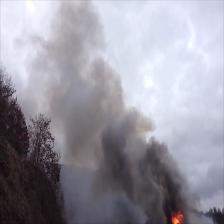fire: (169, 212, 184, 224)
smoke: (54, 11, 97, 147), (103, 106, 149, 175), (153, 153, 178, 205)
